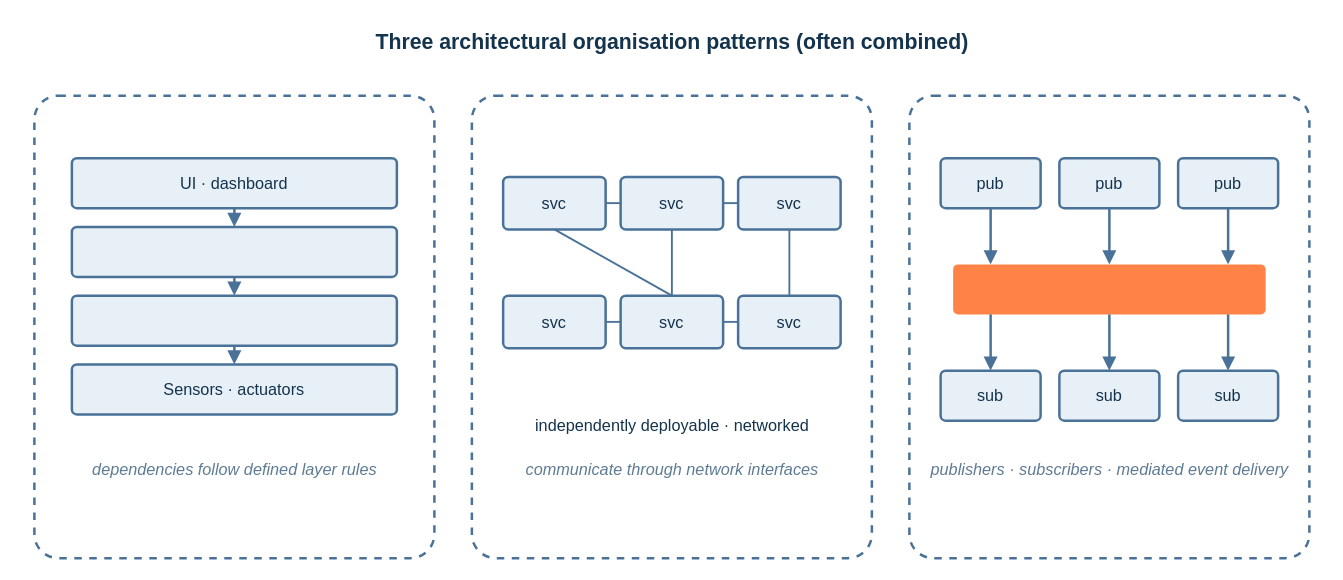
Some shapes in this 1343 by 580 pixel diagram are drawn without their labels. Each missing label, with the box of its shape:
Application · control: (70, 225, 398, 278)
Event bus: (952, 264, 1265, 314)
EVENT-DRIVEN: (908, 94, 1310, 559)
LAYERED: (32, 94, 435, 559)
MICROSERVICES: (470, 94, 872, 559)
Storage: (70, 294, 398, 346)
